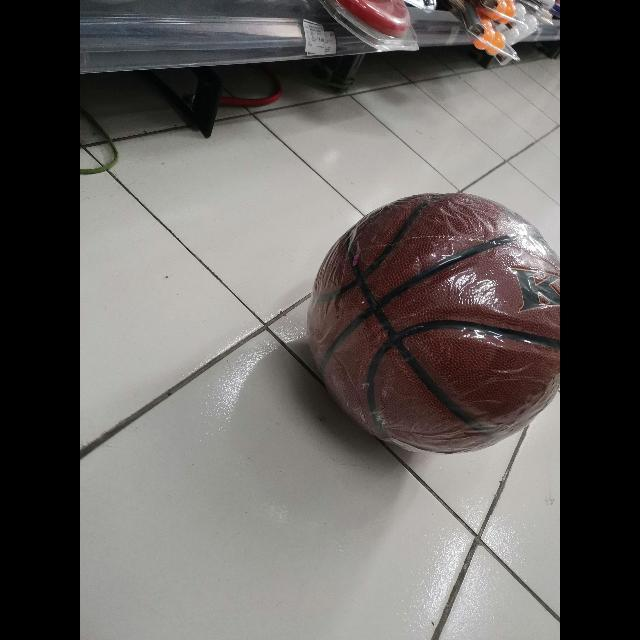basketball: (314, 193, 560, 453)
